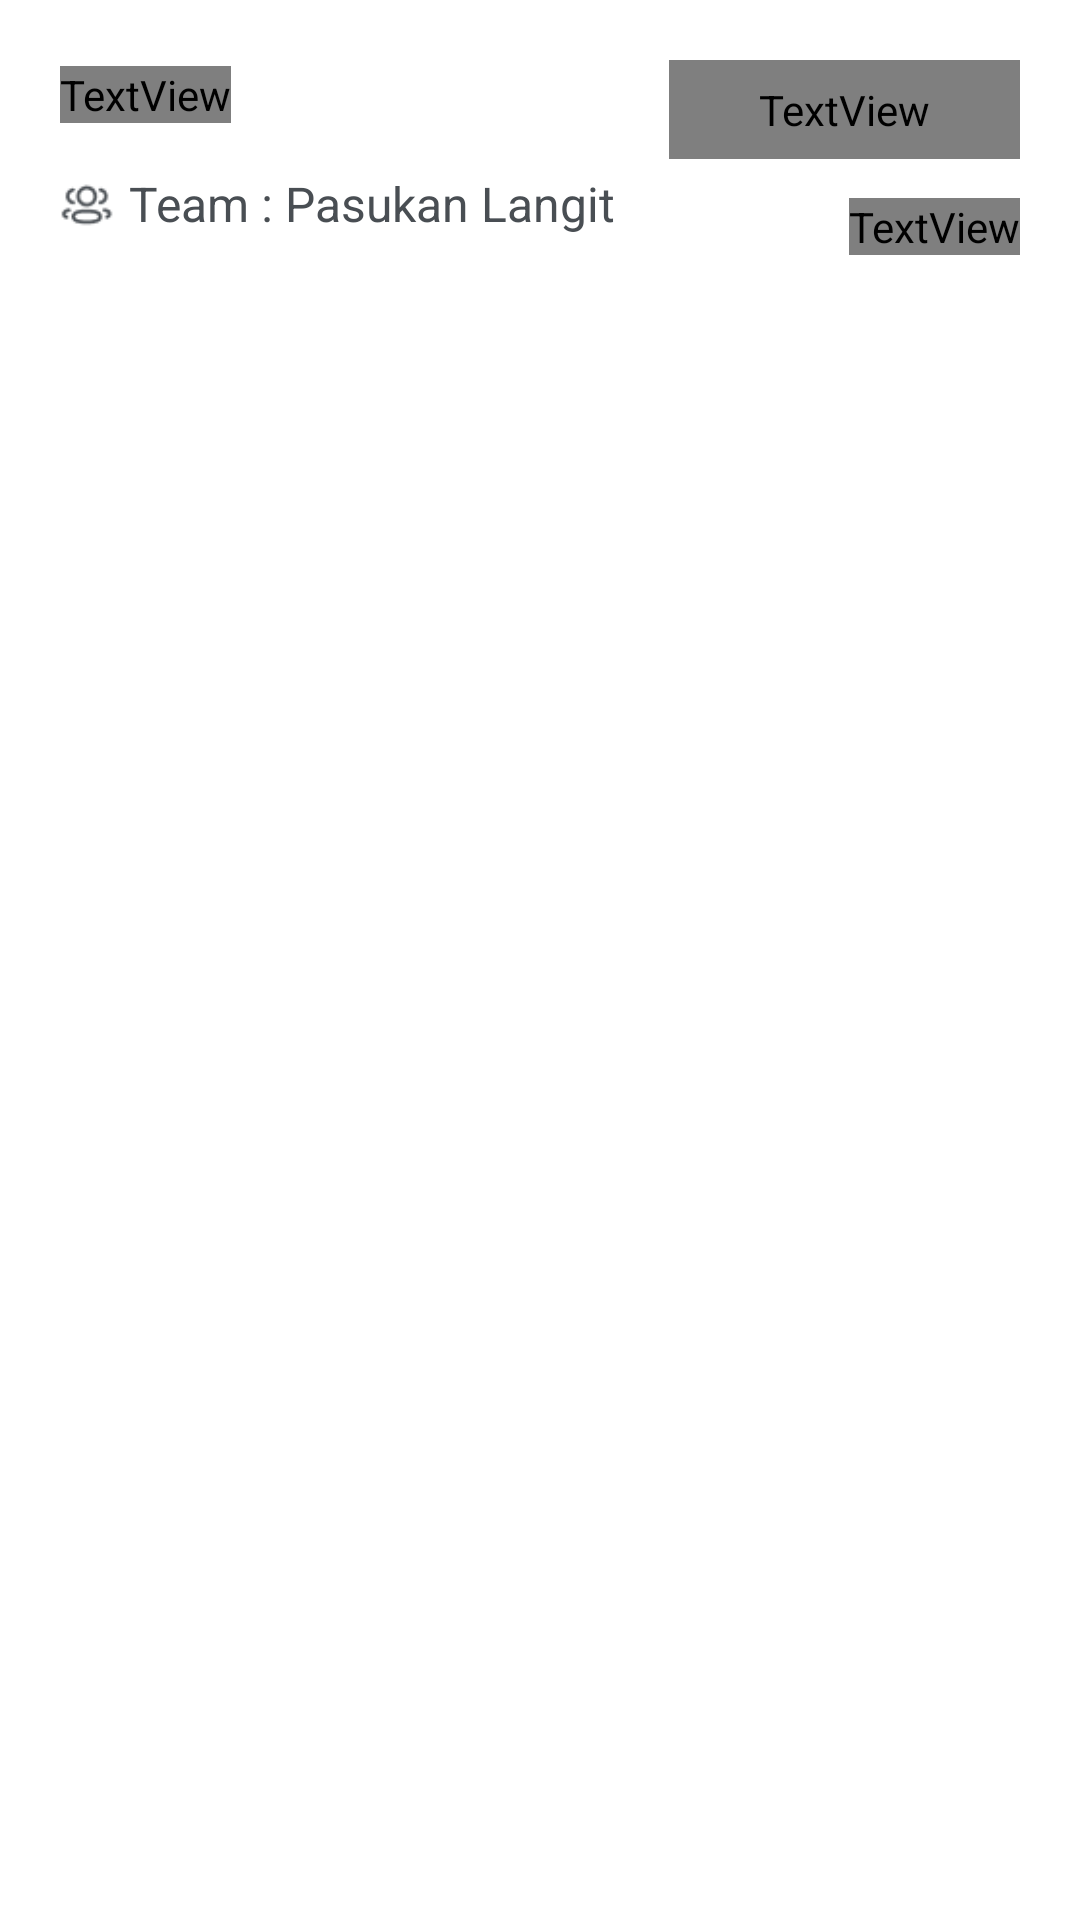

Named icons in this screenshot (1080 x 1920) and their bounding boxes, (x1, y1, x2, y2):
member: (61, 184, 113, 225)
